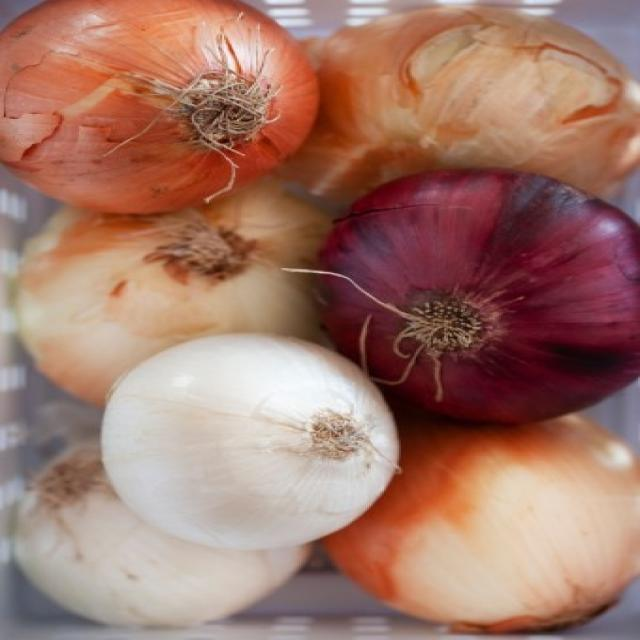onion: (89, 326, 412, 546), (0, 180, 354, 372), (338, 164, 640, 376), (375, 421, 640, 636), (5, 0, 294, 188), (344, 1, 626, 182), (8, 440, 262, 640)
